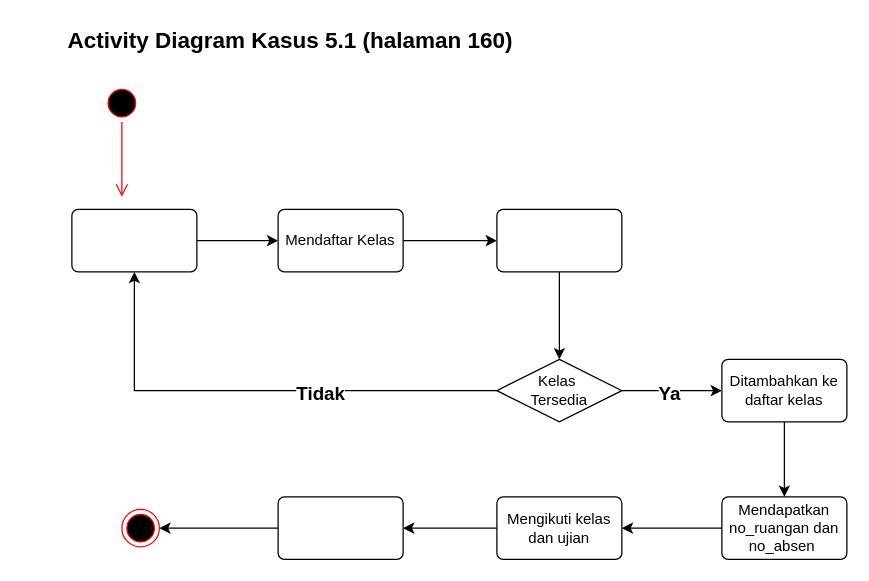
Image size: 869x581. Some labels were removed from this diagram. The centre of each missing label's shape, as x and y in pixels:
"Memeriksa Ketersediaan Kelas" belongs at pixel 559 240.
"Mendapat nilai akhir" belongs at pixel 340 527.
"Menginput Data diri" belongs at pixel 134 240.
